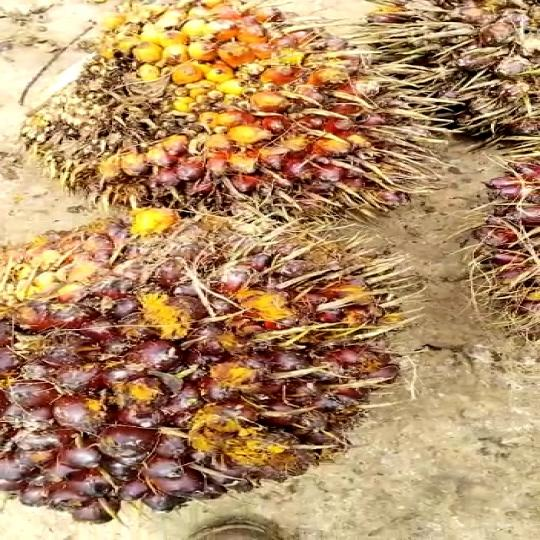masak: (0, 202, 393, 532), (26, 6, 443, 248)
